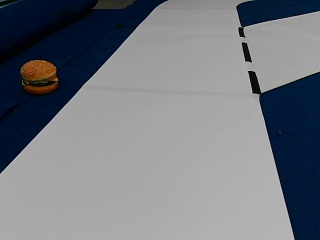burger: (19, 59, 58, 93)
